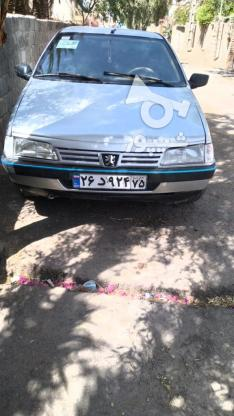car: (71, 173, 147, 191)
